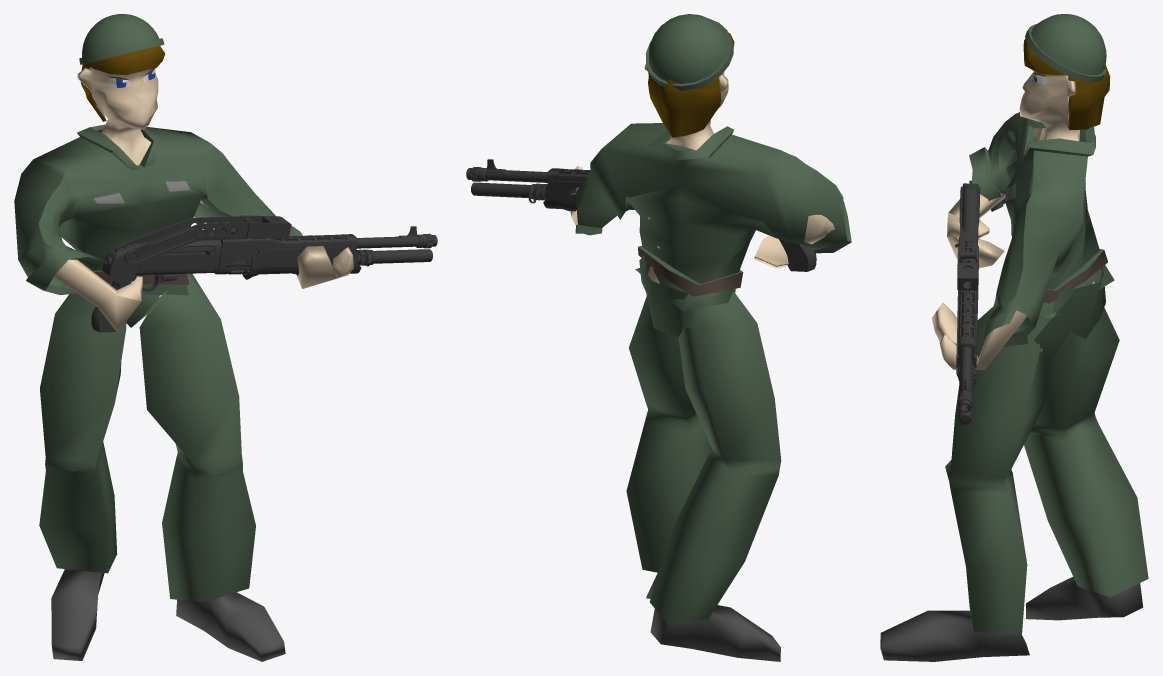
The model's file is Belanda Soldier.fbx.
3 renders of one model, left to right at view 1: azimuth 30°, elevation 25°; view 2: azimuth 150°, elevation 25°; view 3: azimuth 270°, elevation 25°, orthographic. The views are drawn at different scales.
Parts seen in each view (by area): view 1: pCube2, pasted__frame, pasted__stock, pasted__heat_keeper, pasted__ejector; view 2: pCube2, pasted__frame, pasted__ejector; view 3: pCube2, pasted__frame, pasted__stock, pasted__heat_keeper, pasted__ejector.
Part boxes in pixels (x1=…): pCube2: x1=14, y1=14, x2=353, y2=661; pasted__frame: x1=91, y1=226, x2=437, y2=332; pasted__stock: x1=121, y1=215, x2=291, y2=265; pasted__heat_keeper: x1=214, y1=227, x2=357, y2=274; pasted__ejector: x1=242, y1=246, x2=361, y2=279; pCube2: x1=569, y1=14, x2=851, y2=661; pasted__frame: x1=466, y1=159, x2=816, y2=271; pasted__ejector: x1=543, y1=180, x2=634, y2=211; pCube2: x1=880, y1=14, x2=1148, y2=661; pasted__frame: x1=957, y1=180, x2=978, y2=424; pasted__stock: x1=957, y1=186, x2=980, y2=290; pasted__heat_keeper: x1=958, y1=247, x2=976, y2=366; pasted__ejector: x1=956, y1=290, x2=978, y2=377.
Size of the model in its own units: 7.78 by 11.65 by 4.49.
